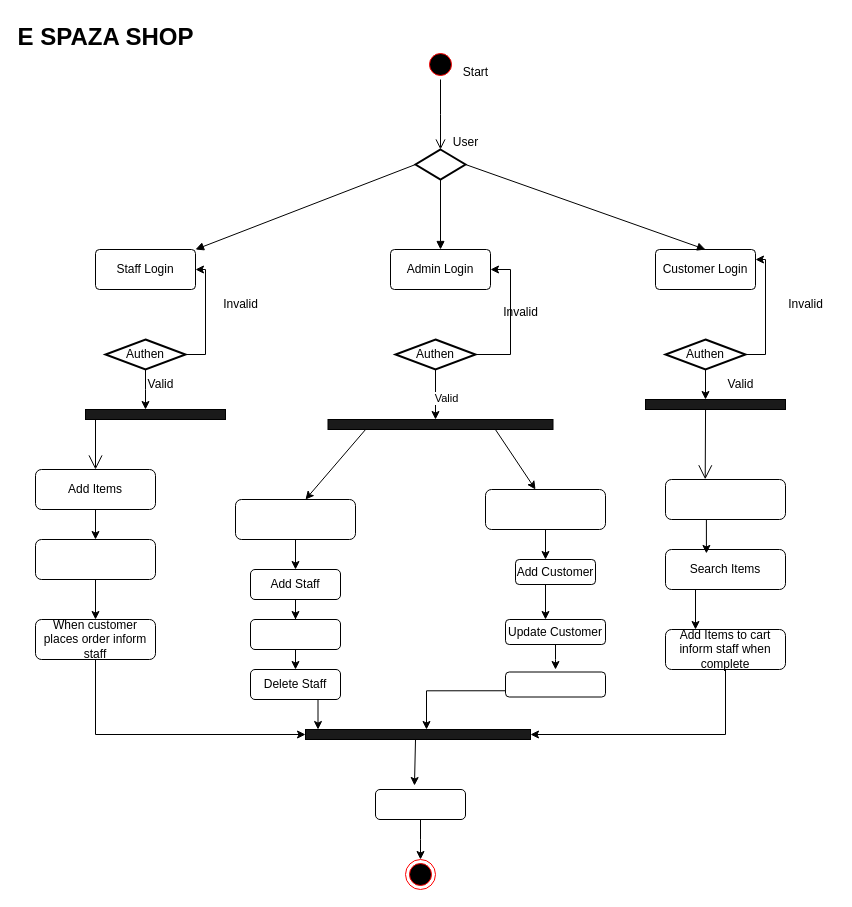
The diagram is 852 pixels wide and 907 high, and some of its shapes have lost their labels. Here are the shapes that lost their labels. From the top down, the box of each, then its label:
(234, 498, 356, 540): Manage Staff
(484, 488, 606, 530): Manage Customer
(664, 478, 786, 520): View Items
(34, 538, 156, 580): View and Manage Items
(250, 618, 340, 650): Update Staff
(504, 671, 606, 697): Delete Customer
(374, 788, 466, 820): Sign out
